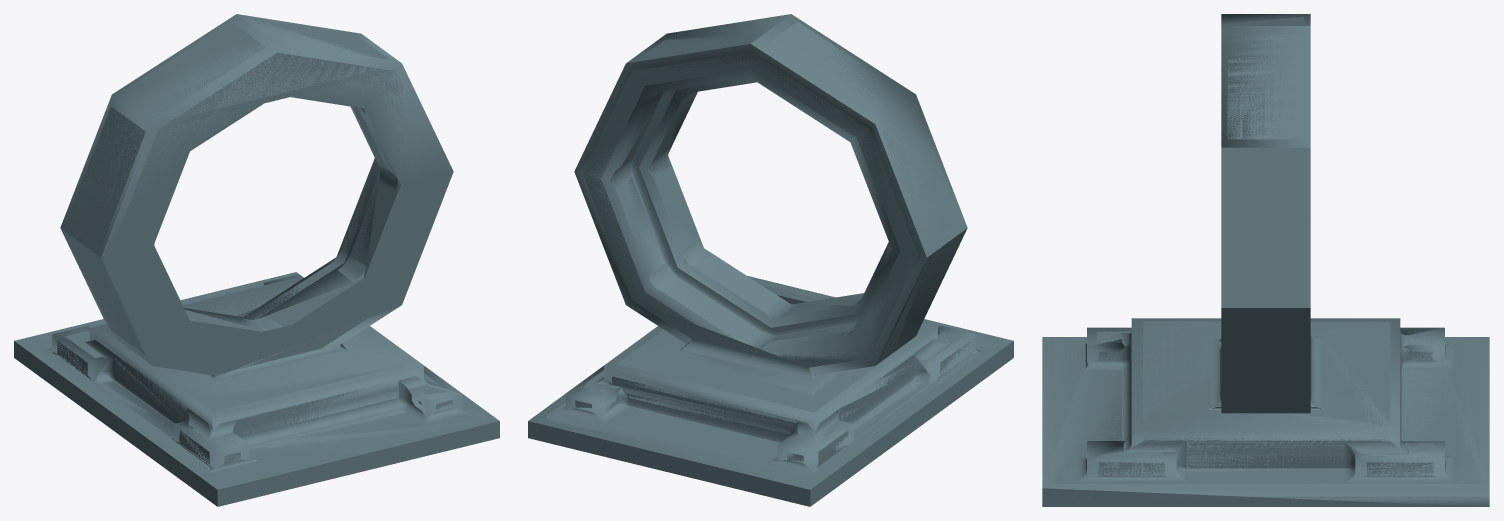
The model's file is space-kit__gate_simple.glb.
The picture shows the model from 3 angles, left to right: view 1: azimuth 30°, elevation 25°; view 2: azimuth 150°, elevation 25°; view 3: azimuth 270°, elevation 25°; orthographic projection. The views are drawn at different scales.
Parts seen in each view (by area): view 1: L1_dark, L0_dark; view 2: L1_dark, L0_dark; view 3: L1_dark, L0_dark.
Boxes of the visible parts, x1,y1,x2,y2 form: L1_dark: (14, 14, 499, 506); L0_dark: (18, 17, 491, 496); L1_dark: (528, 14, 1013, 506); L0_dark: (547, 22, 1009, 496); L1_dark: (1042, 14, 1489, 506); L0_dark: (1054, 16, 1479, 497).
Bounding box in the file's own units: 1 × 1 × 1.
